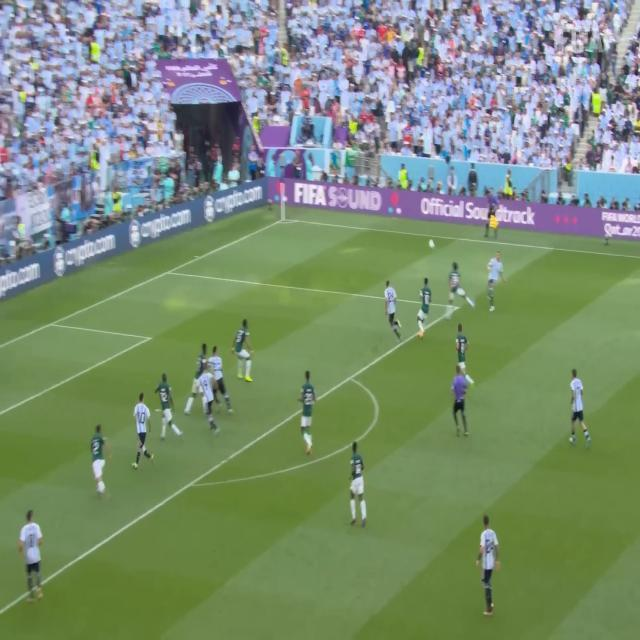player: (18, 500, 46, 608), (477, 514, 504, 620), (295, 364, 323, 462), (154, 370, 185, 448), (566, 362, 593, 450), (346, 438, 372, 529), (446, 259, 478, 329), (132, 381, 154, 482), (90, 416, 111, 506), (185, 337, 208, 419), (381, 276, 407, 343), (486, 249, 510, 317), (415, 272, 438, 342), (234, 308, 255, 382), (210, 344, 232, 414), (454, 322, 476, 385), (198, 367, 218, 435)
